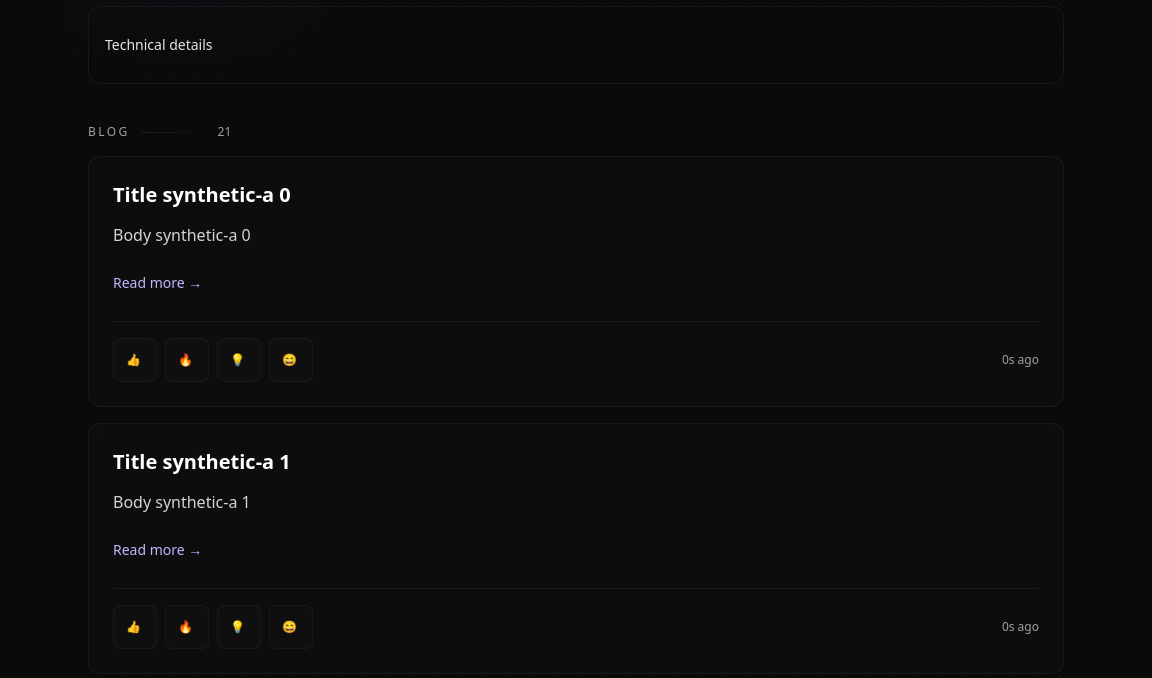
Scenario: AB.4 401 in en is explicit without canonical success
(page scrolled)
Click the button "👍" below "Body synthetic-a 0".
click(135, 360)  # box [113,338,157,382]
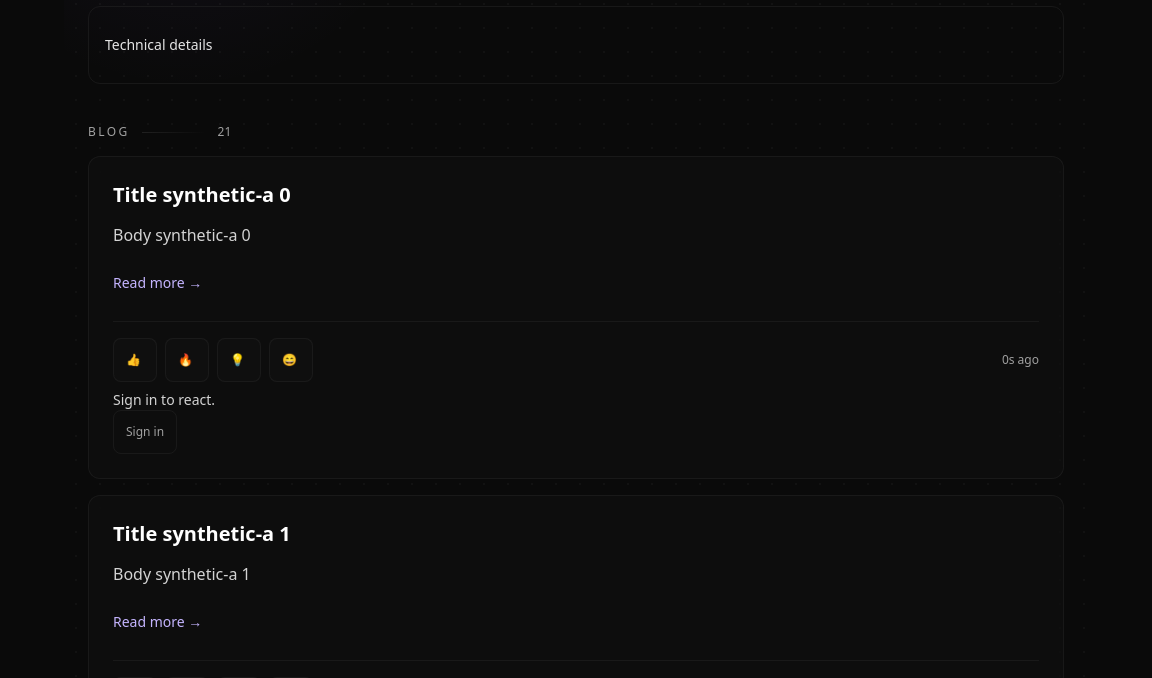
Expected: the text "Sign in to react." is shown, [113,390,215,409]
